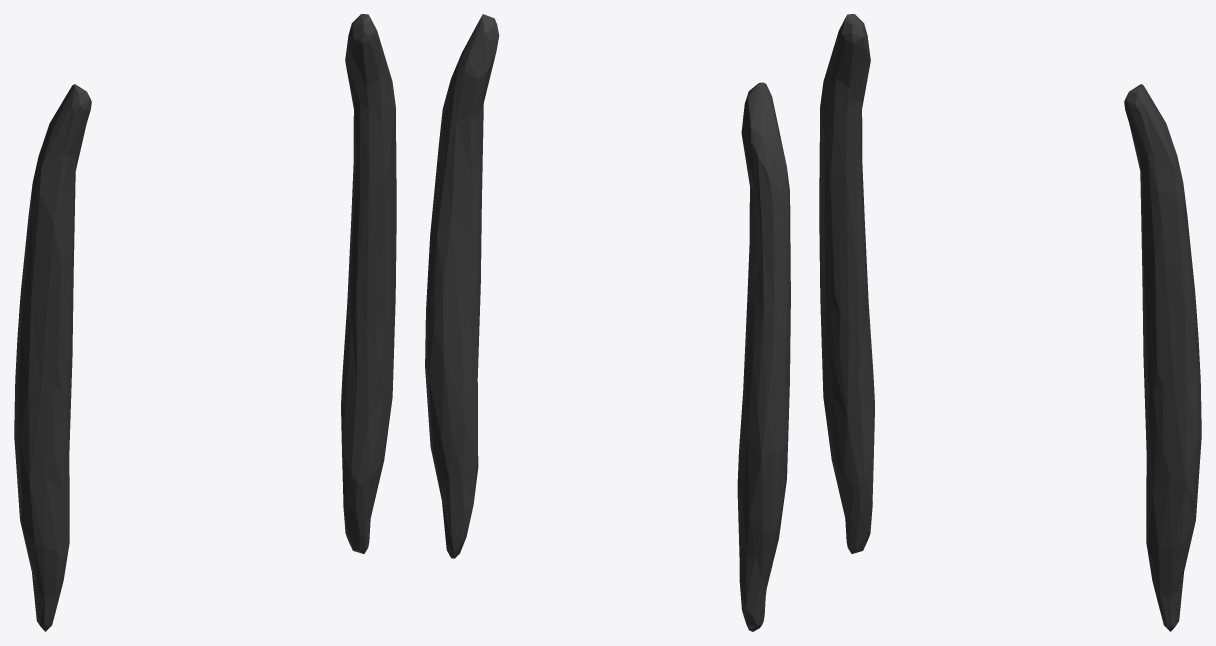
The model's file is m_flexor_digitorum_profundus_humeral.glb.
3 renders of one model, left to right at view 1: azimuth 30°, elevation 25°; view 2: azimuth 150°, elevation 25°; view 3: azimuth 330°, elevation 25°, orthographic. The views are drawn at different scales.
Visible parts, largest first — view 1: m_flexor_digitorum_profundus_humeral; view 2: m_flexor_digitorum_profundus_humeral; view 3: m_flexor_digitorum_profundus_humeral.
Part boxes in pixels (left/top/right/bottom): m_flexor_digitorum_profundus_humeral: left=14, top=14, right=396, bottom=631; m_flexor_digitorum_profundus_humeral: left=425, top=14, right=790, bottom=631; m_flexor_digitorum_profundus_humeral: left=819, top=14, right=1201, bottom=631.
Bounding box in the file's own units: 0.00444 × 0.0063 × 0.000731.
Materials: 1 (1 with a texture image).
